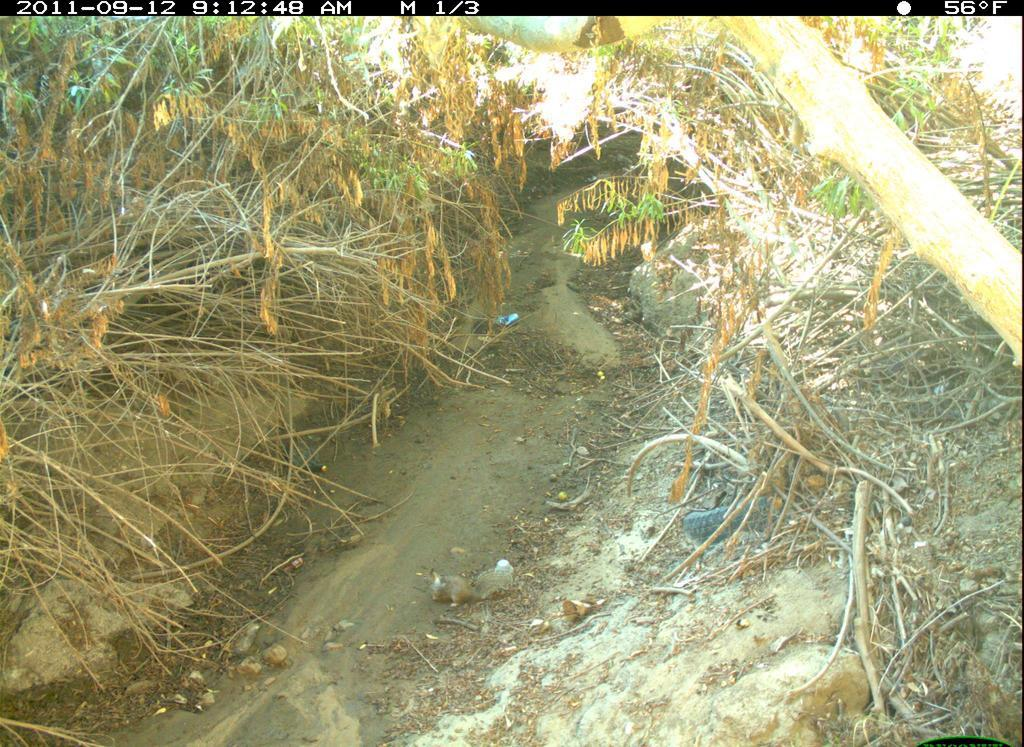squirrel: (420, 557, 523, 617)
